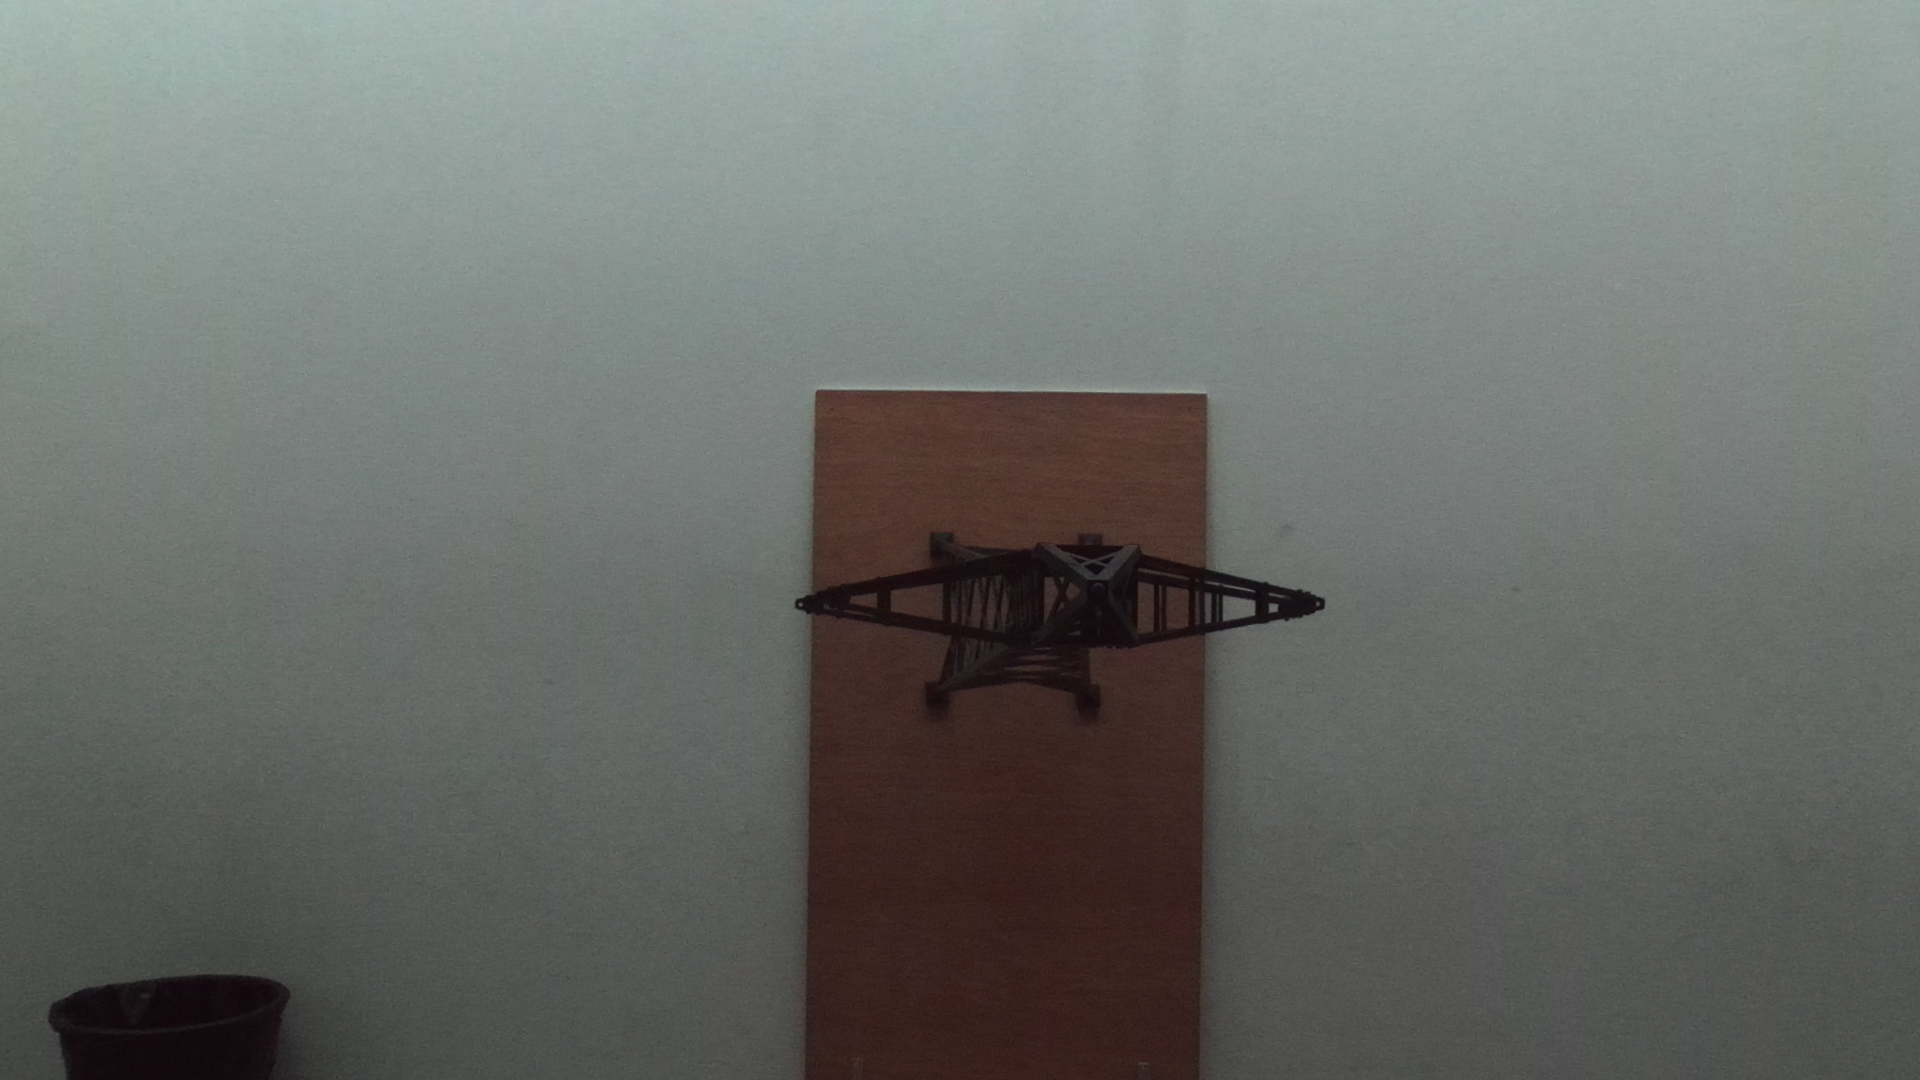pylon_phy: (804, 545, 1328, 651)
